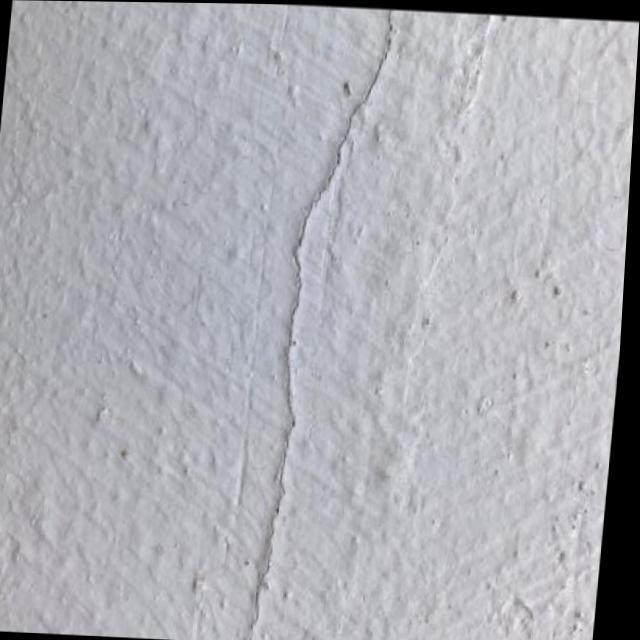Crack: (244, 12, 399, 634)
